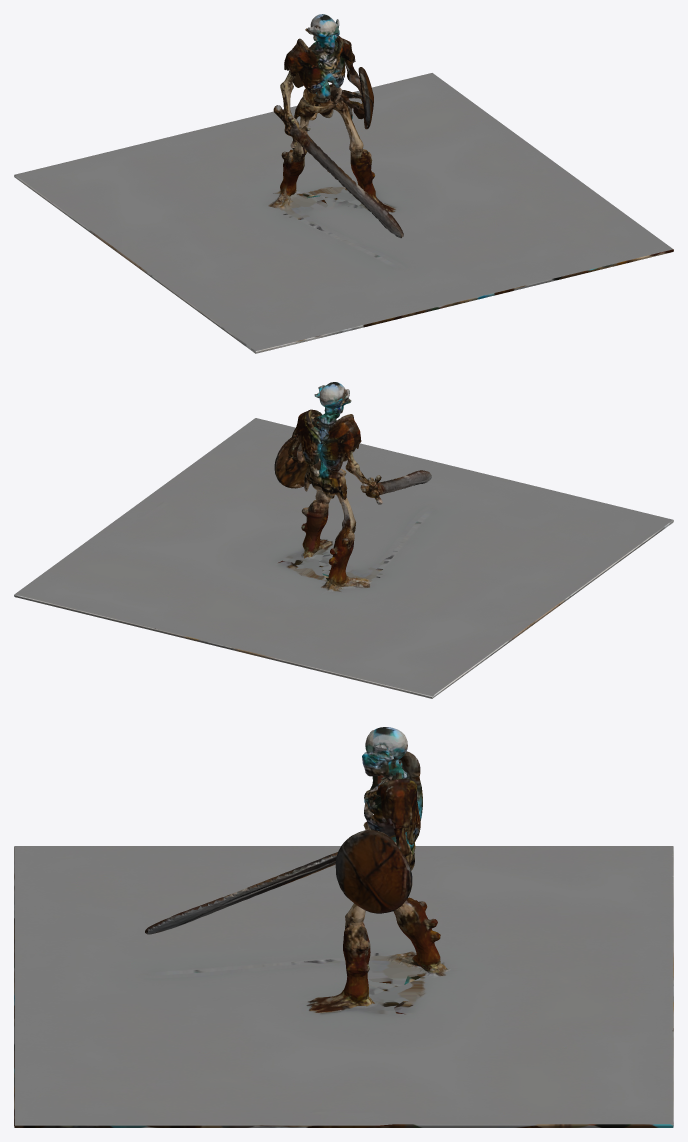
Rendered from batch2_06_generated_from_image_glb__5_.glb.
3 views of the same model, one above another, from view 1: azimuth 30°, elevation 25°; view 2: azimuth 150°, elevation 25°; view 3: azimuth 270°, elevation 25° (orthographic). The views are drawn at different scales.
Parts seen in each view (by area): view 1: textured_mesh.obj; view 2: textured_mesh.obj; view 3: textured_mesh.obj.
Part boxes in pixels (<box>): textured_mesh.obj: <box>14,14,673,353</box>; textured_mesh.obj: <box>14,382,673,698</box>; textured_mesh.obj: <box>14,727,673,1127</box>.
Size of the model in its own units: 1.99 by 0.8542 by 1.99.
1 material, 1 textured.
